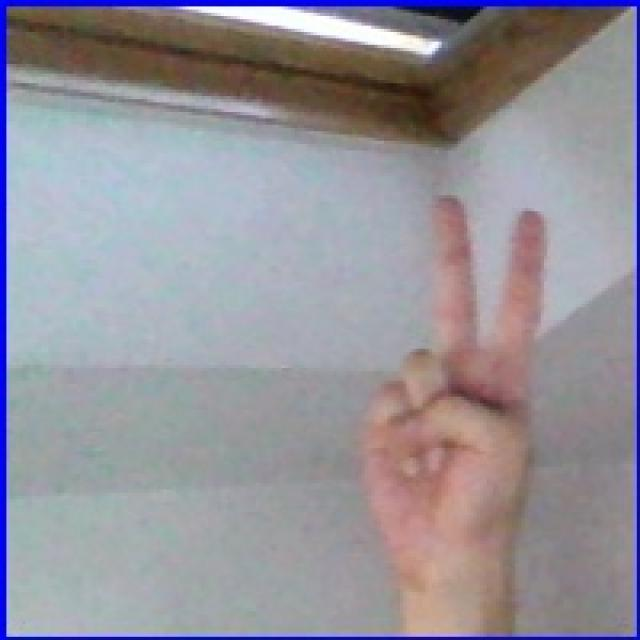Letra-V: (332, 175, 574, 608)
